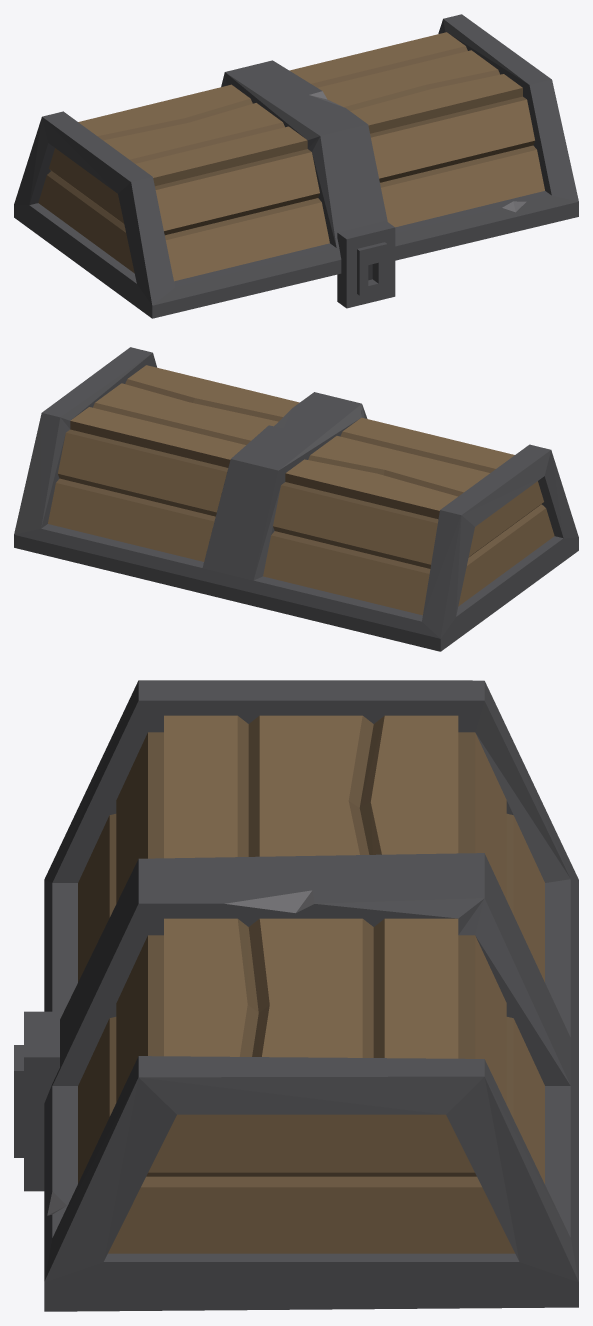
The model's file is poly_chest_lid.glb.
The picture shows the model from 3 angles, top to bottom: view 1: azimuth 30°, elevation 25°; view 2: azimuth 150°, elevation 25°; view 3: azimuth 270°, elevation 25°; orthographic projection. The views are drawn at different scales.
Parts seen in each view (by area): view 1: SM_Prop_Chest_Lid_01; view 2: SM_Prop_Chest_Lid_01; view 3: SM_Prop_Chest_Lid_01.
Boxes of the visible parts, box(x1,y1,x2,y2) form: SM_Prop_Chest_Lid_01: box(14, 14, 578, 318); SM_Prop_Chest_Lid_01: box(14, 347, 578, 651); SM_Prop_Chest_Lid_01: box(14, 680, 578, 1311).
Bounding box in the file's own units: 121 × 40.63 × 71.77.
Materials: 1 (1 with a texture image).
